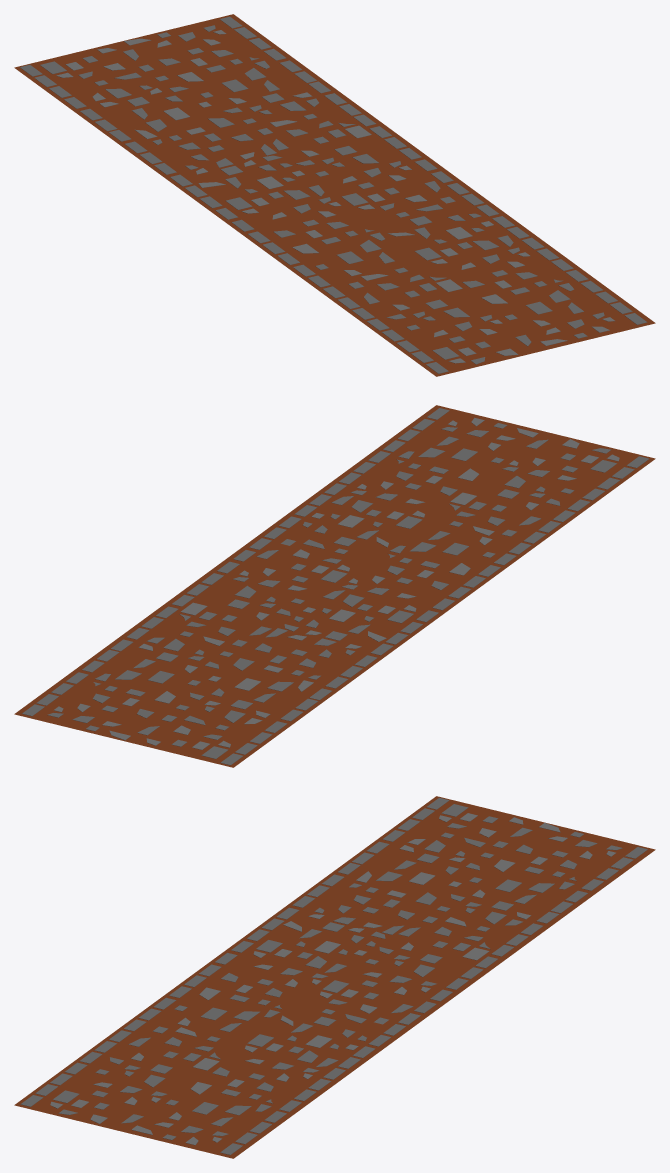
File: Way 4.fbx
3 views of the same model, one above another, from view 1: azimuth 30°, elevation 25°; view 2: azimuth 150°, elevation 25°; view 3: azimuth 330°, elevation 25° (orthographic).
Visible parts, largest first — view 1: Boden, Steine, SteineRand; view 2: Boden, Steine, SteineRand; view 3: Boden, Steine, SteineRand.
Boxes of the visible parts, left/top/right/bottom form: Boden: left=14, top=14, right=655, bottom=376; Steine: left=40, top=25, right=614, bottom=364; SteineRand: left=20, top=16, right=647, bottom=373; Boden: left=14, top=405, right=655, bottom=767; Steine: left=47, top=417, right=619, bottom=758; SteineRand: left=22, top=408, right=648, bottom=765; Boden: left=14, top=796, right=655, bottom=1158; Steine: left=50, top=804, right=622, bottom=1145; SteineRand: left=20, top=797, right=647, bottom=1155.
Bounding box in the file's own units: 10 × 3 × 0.00717.
